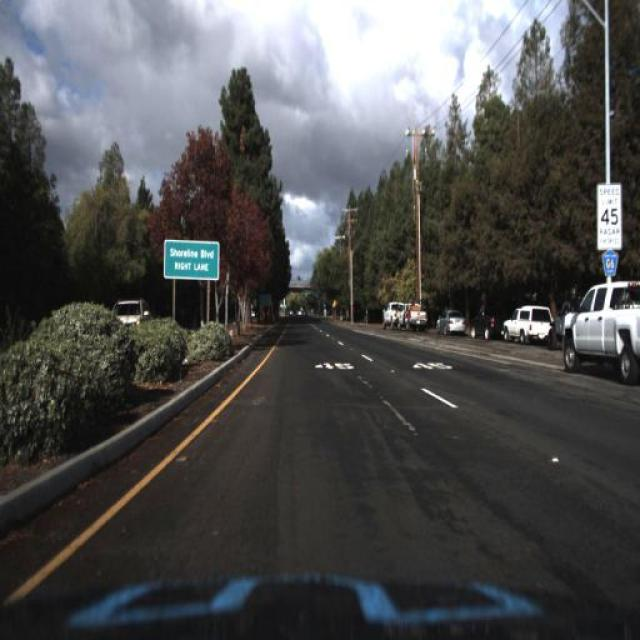car: (563, 280, 639, 389), (111, 291, 150, 345), (502, 302, 552, 342), (501, 304, 553, 342), (466, 309, 502, 342), (398, 300, 427, 332), (378, 303, 407, 332), (442, 311, 467, 341), (438, 310, 463, 334)
